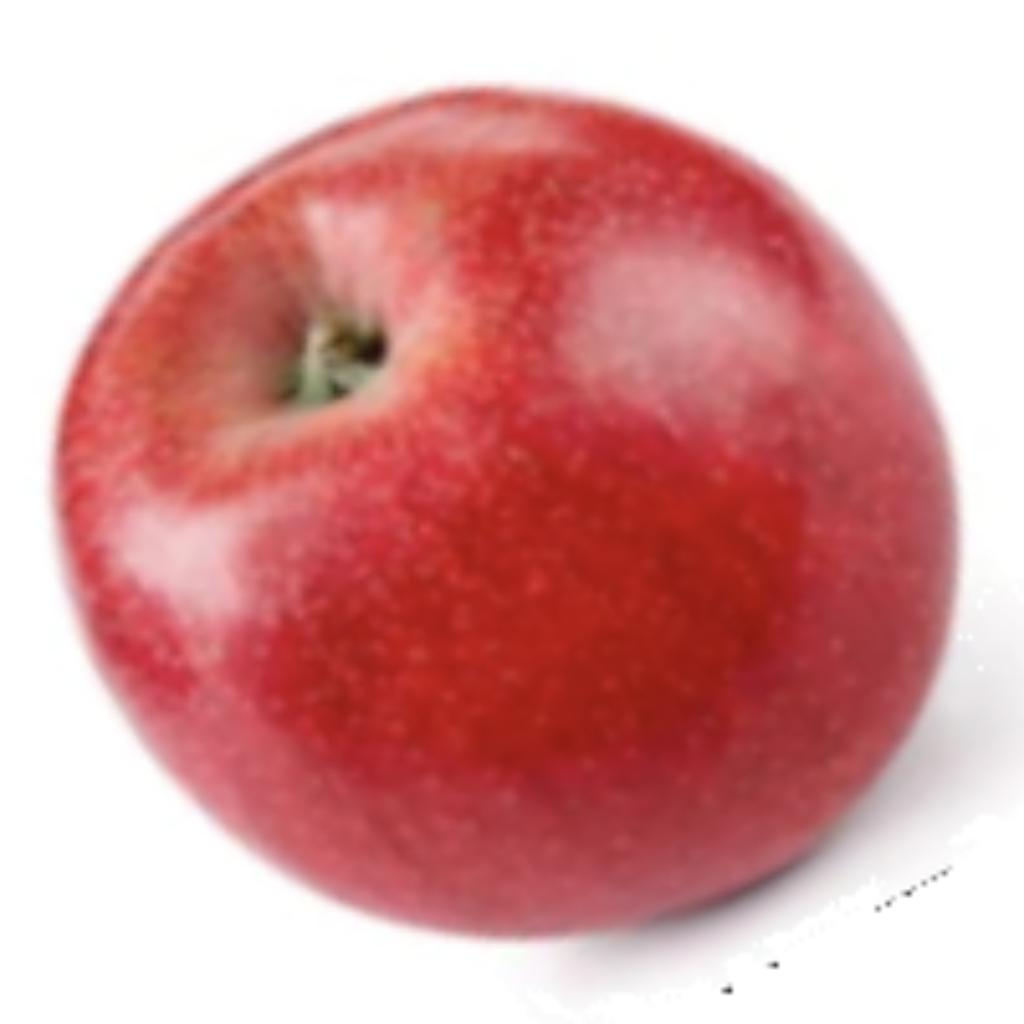apple: (31, 72, 1019, 1019)
